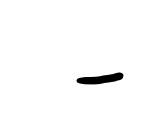minus: (77, 72, 124, 85)
